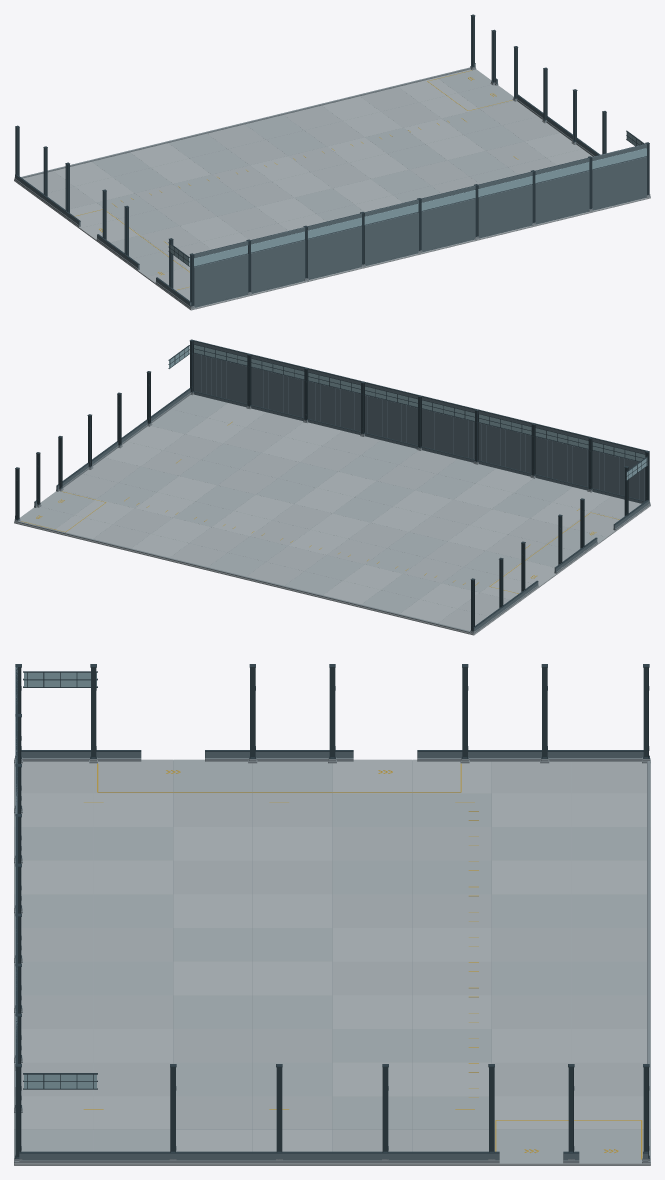
Rendered from environment-shell.glb.
The picture shows the model from 3 angles, top to bottom: view 1: azimuth 30°, elevation 25°; view 2: azimuth 150°, elevation 25°; view 3: azimuth 270°, elevation 25°; orthographic projection. The views are drawn at different scales.
Visible parts, largest first — view 1: environment-shell__material_08, environment-shell__material_07, environment-shell__material_05, environment-shell__material_06, environment-shell__material_02, environment-shell__material_01, environment-shell__material_03, environment-shell__material_09, environment-shell__material_00; view 2: environment-shell__material_06, environment-shell__material_07, environment-shell__material_05, environment-shell__material_08, environment-shell__material_02, environment-shell__material_01, environment-shell__material_03, environment-shell__material_09, environment-shell__material_00; view 3: environment-shell__material_06, environment-shell__material_07, environment-shell__material_05, environment-shell__material_02, environment-shell__material_08, environment-shell__material_03, environment-shell__material_09, environment-shell__material_04, environment-shell__material_01, environment-shell__material_00.
Boxes of the visible parts, bbox=[...] form: environment-shell__material_08: bbox=[15, 64, 646, 307]; environment-shell__material_07: bbox=[92, 69, 645, 290]; environment-shell__material_05: bbox=[23, 87, 573, 308]; environment-shell__material_06: bbox=[54, 77, 612, 299]; environment-shell__material_02: bbox=[15, 14, 649, 306]; environment-shell__material_01: bbox=[169, 132, 646, 266]; environment-shell__material_03: bbox=[14, 66, 650, 308]; environment-shell__material_09: bbox=[14, 121, 650, 310]; environment-shell__material_00: bbox=[75, 70, 518, 290]; environment-shell__material_06: bbox=[54, 403, 610, 624]; environment-shell__material_07: bbox=[19, 394, 606, 614]; environment-shell__material_05: bbox=[63, 412, 641, 633]; environment-shell__material_08: bbox=[15, 340, 648, 630]; environment-shell__material_02: bbox=[15, 339, 649, 631]; environment-shell__material_01: bbox=[169, 344, 647, 479]; environment-shell__material_03: bbox=[14, 392, 650, 633]; environment-shell__material_09: bbox=[14, 446, 650, 635]; environment-shell__material_00: bbox=[21, 421, 619, 593]; environment-shell__material_06: bbox=[14, 759, 650, 1151]; environment-shell__material_07: bbox=[14, 759, 650, 1163]; environment-shell__material_05: bbox=[14, 759, 650, 1151]; environment-shell__material_02: bbox=[15, 664, 649, 1158]; environment-shell__material_08: bbox=[15, 667, 648, 1160]; environment-shell__material_03: bbox=[14, 757, 650, 1163]; environment-shell__material_09: bbox=[14, 760, 650, 1165]; environment-shell__material_04: bbox=[21, 761, 643, 1151]; environment-shell__material_01: bbox=[24, 672, 96, 1088]; environment-shell__material_00: bbox=[83, 763, 642, 1159].
Bounding box in the file's own units: 72 × 8.2 × 48.
